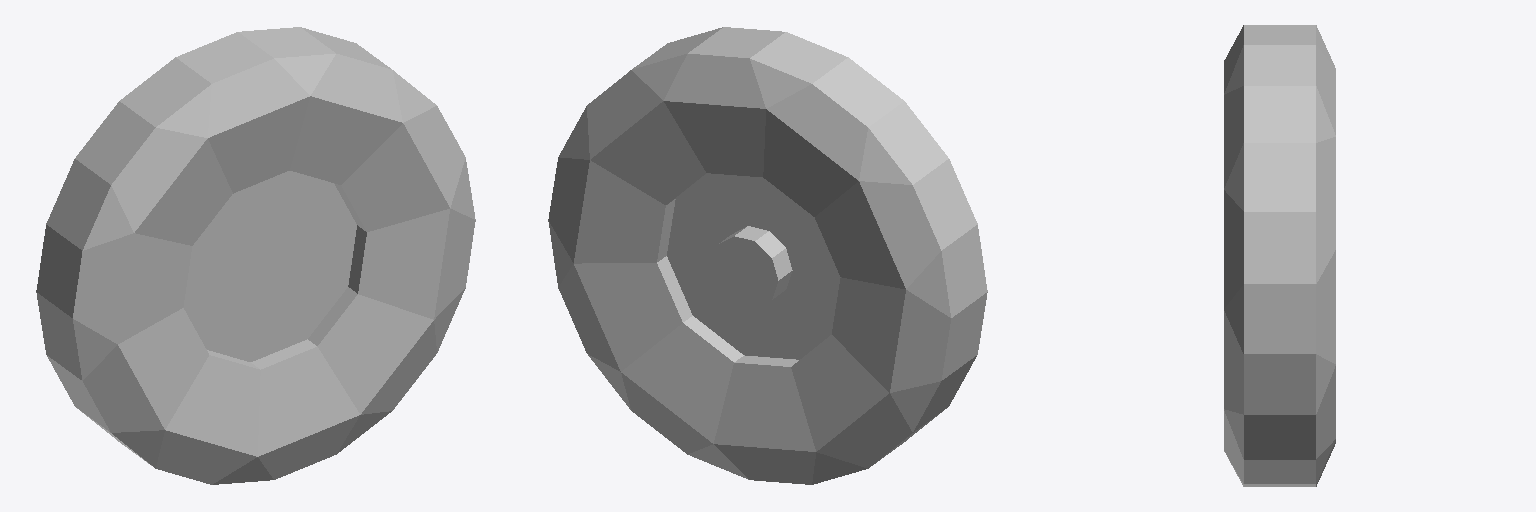
File: buggywheel_frontsteer.obj
The picture shows the model from 3 angles: view 1: azimuth 30°, elevation 25°; view 2: azimuth 150°, elevation 25°; view 3: azimuth 270°, elevation 25°; orthographic projection.
Visible parts, largest first — view 1: buggy_reference.001; view 2: buggy_reference.001; view 3: buggy_reference.001.
Part boxes in pixels (x1,y1,x2,y2): buggy_reference.001: (36, 27, 475, 484); buggy_reference.001: (548, 27, 987, 484); buggy_reference.001: (1224, 25, 1335, 486).
Bounding box in the file's own units: 0.9915 × 0.9915 × 0.2395.